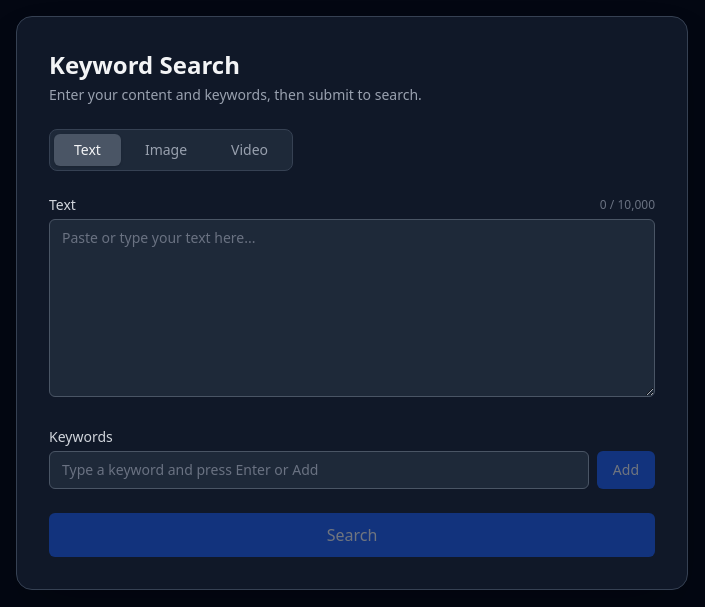
Scenario: App › type switching › shows file upload zone when Image tab is selected
Click the button "Image" at (166, 150), box left=125, top=134, right=207, bottom=166
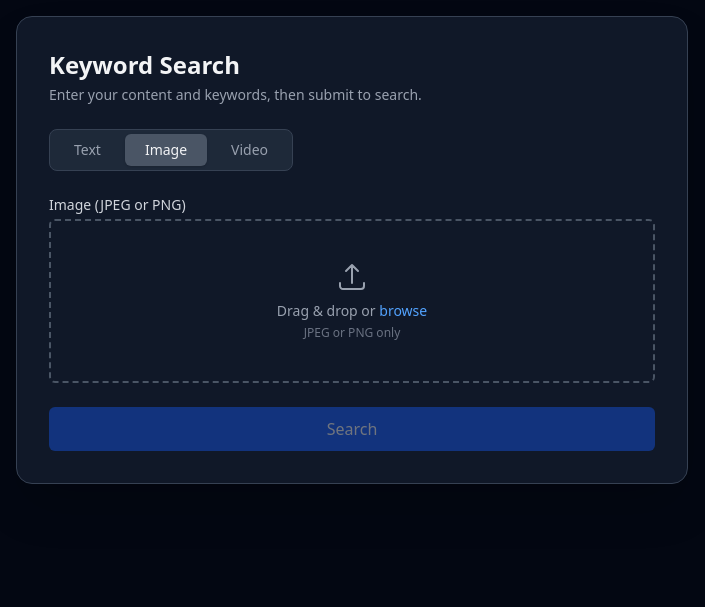
Expected: the text "Drag & drop or browse" is shown, left=277, top=301, right=427, bottom=321
